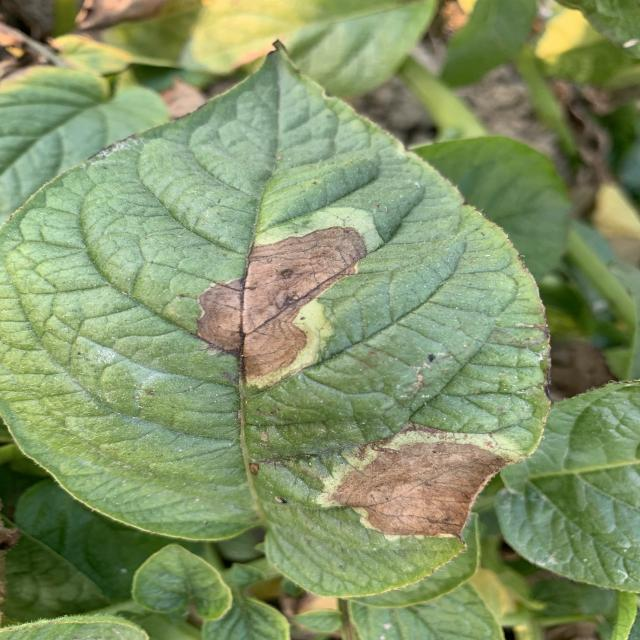lateblight: (198, 226, 367, 378), (330, 441, 507, 536)
